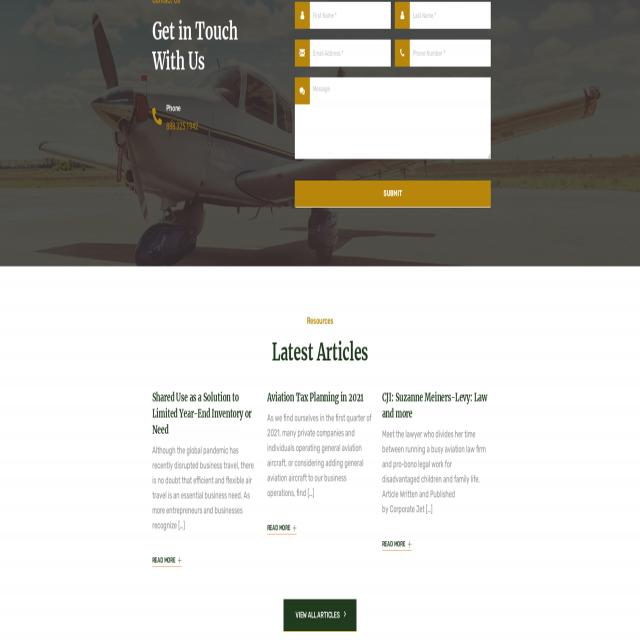button: (295, 180, 491, 207), (283, 598, 356, 631), (149, 101, 164, 132)
field: (296, 77, 490, 158), (295, 2, 391, 29), (395, 2, 491, 29), (295, 40, 391, 66), (395, 40, 491, 66)
